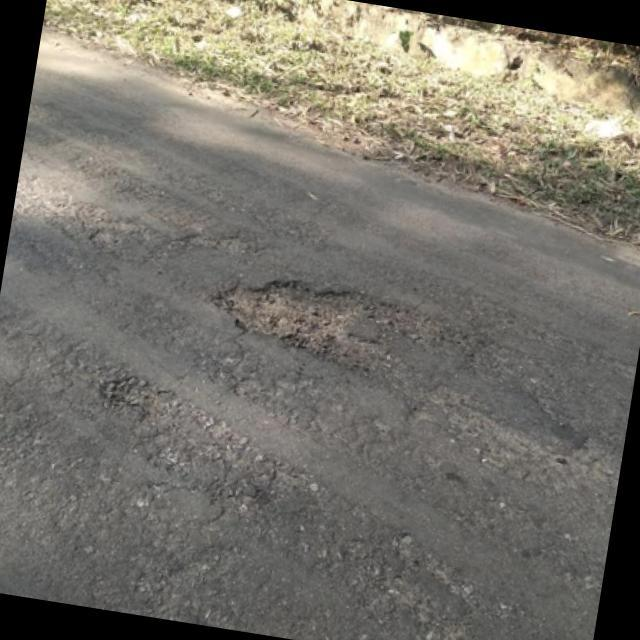Pothole: (221, 281, 390, 367)
